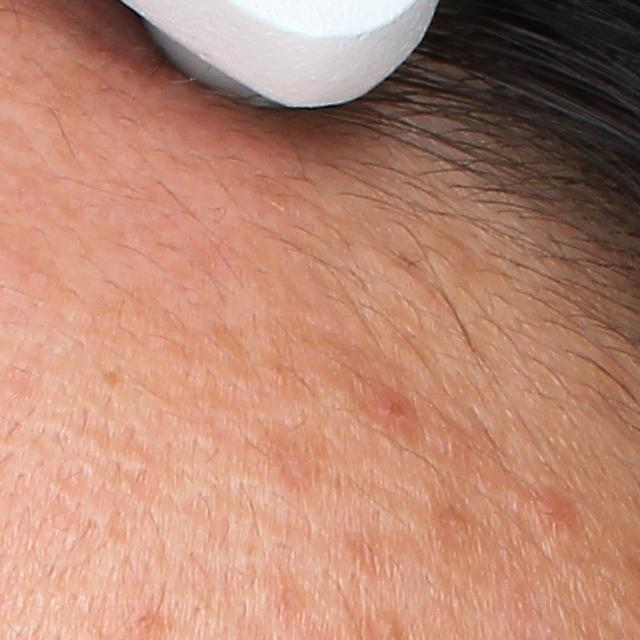papule: (530, 487, 579, 528)
